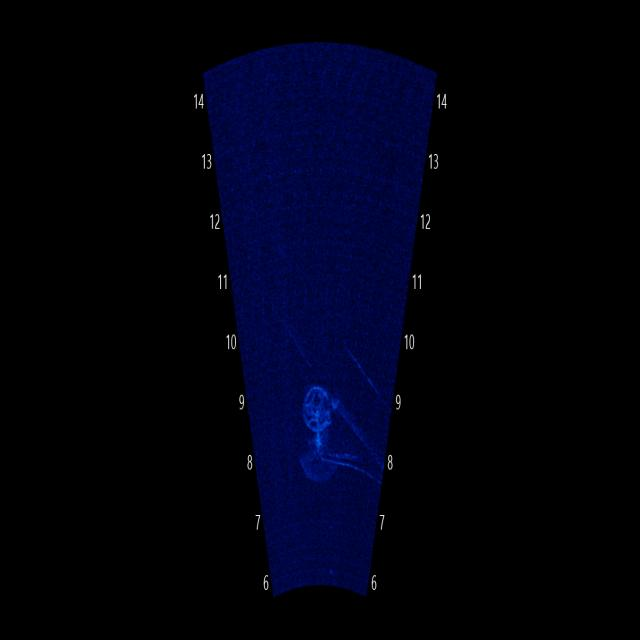circle: (294, 357, 353, 441)
